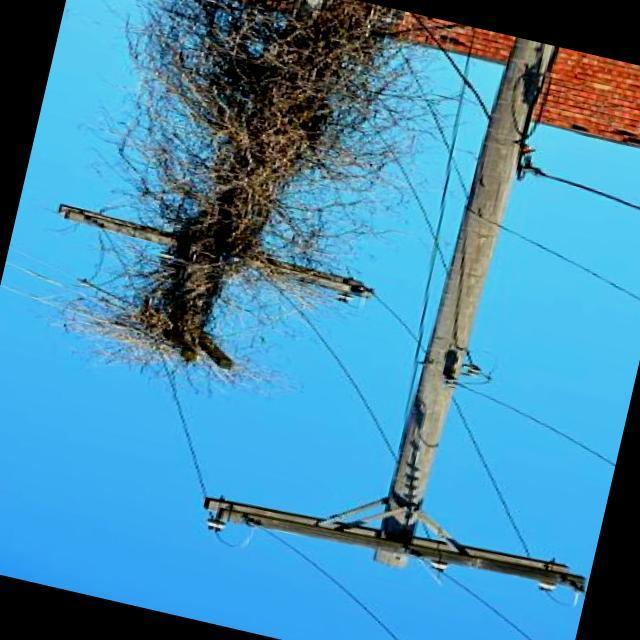critical vegetation: (86, 0, 392, 417)
